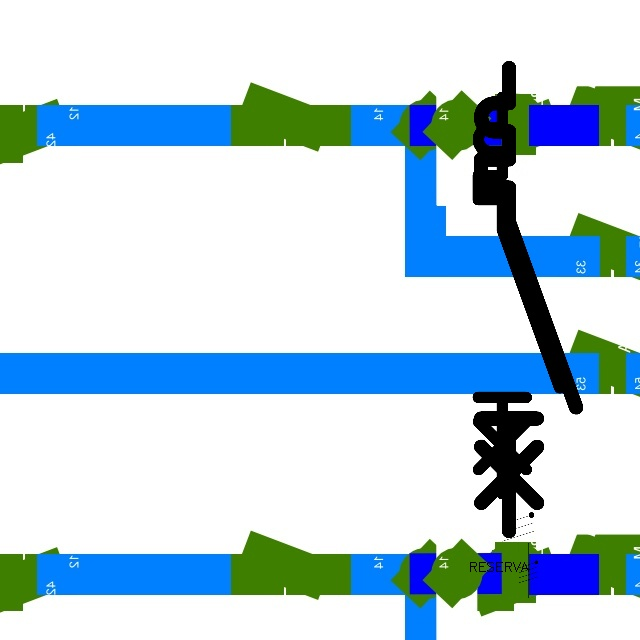interruptor_termomagnetico: (469, 56, 588, 543), (468, 87, 570, 504)
